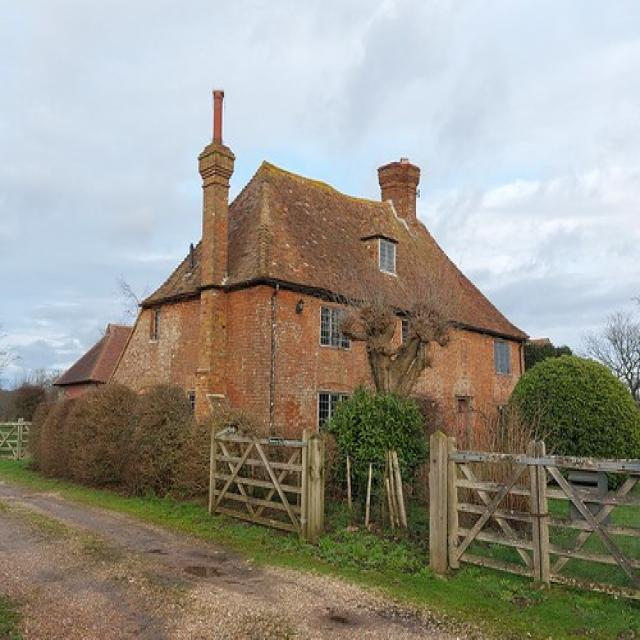Normal_building: (52, 137, 529, 549)
